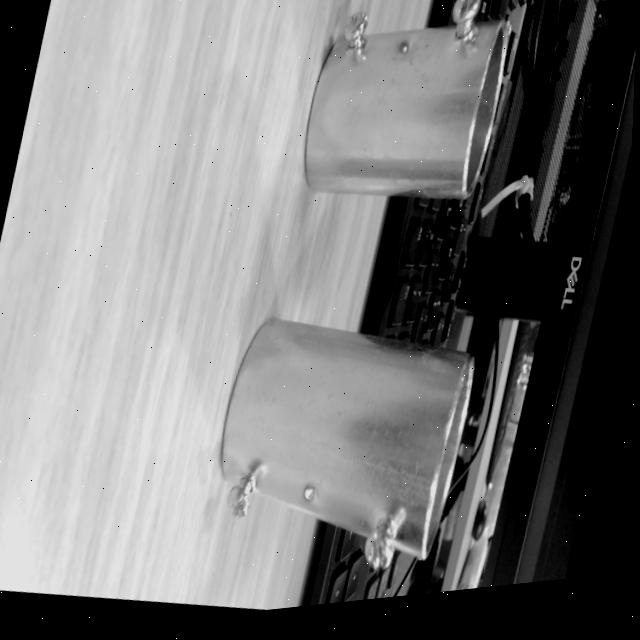Co_Lon: (201, 304, 479, 580)
